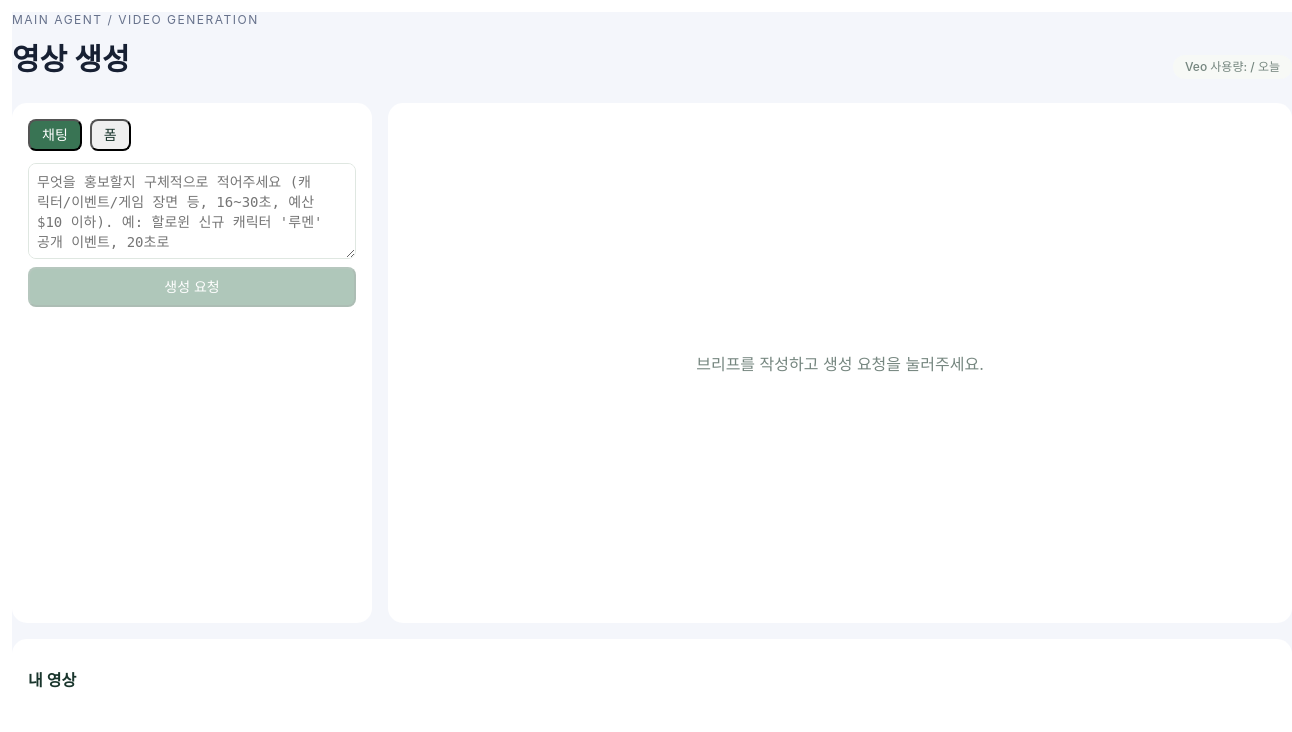
Test: VideoAgentPage › shows the Video Agent clarification inline after the request is routed to Video Generation
This screenshot has width=1292, height=732.
Type "안녕하세요 도와주세요" into the text box named "영상 브리프". click: (192, 211)
box: [28, 163, 356, 259]
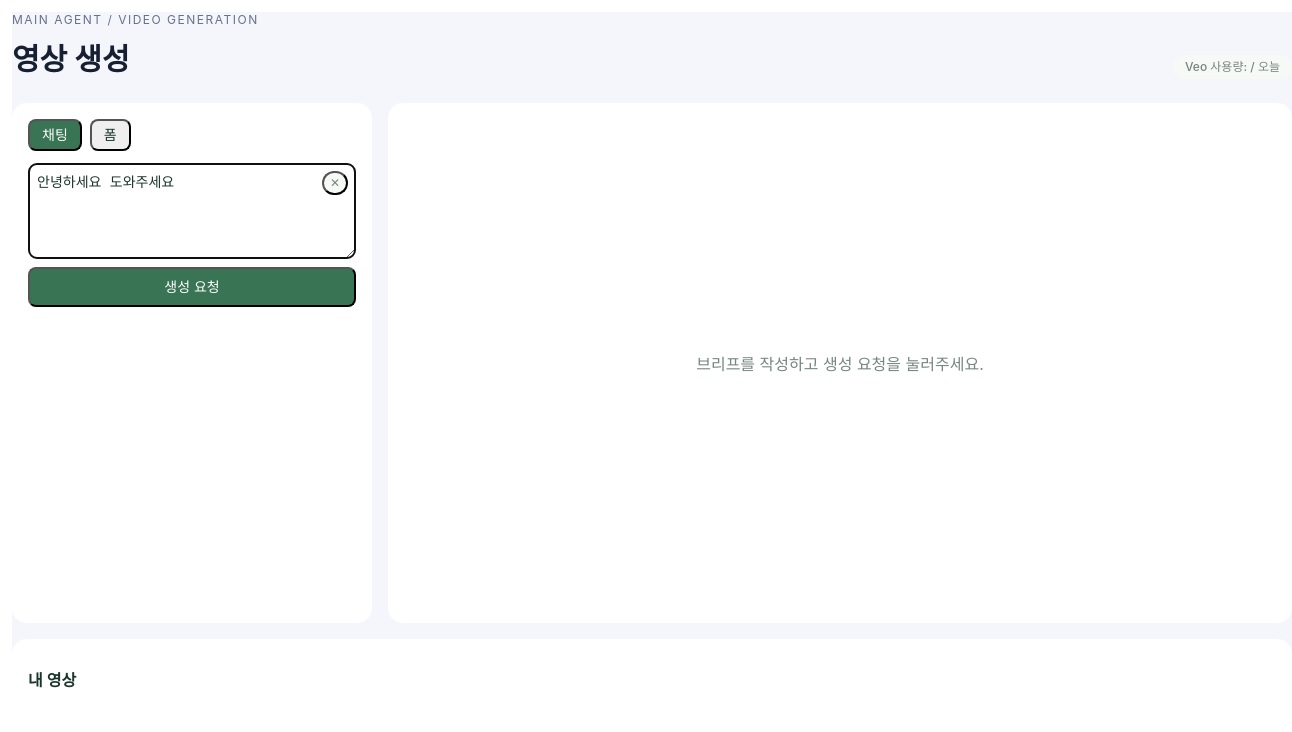
Click the button "생성 요청". click: (192, 287)
box: [28, 267, 356, 307]
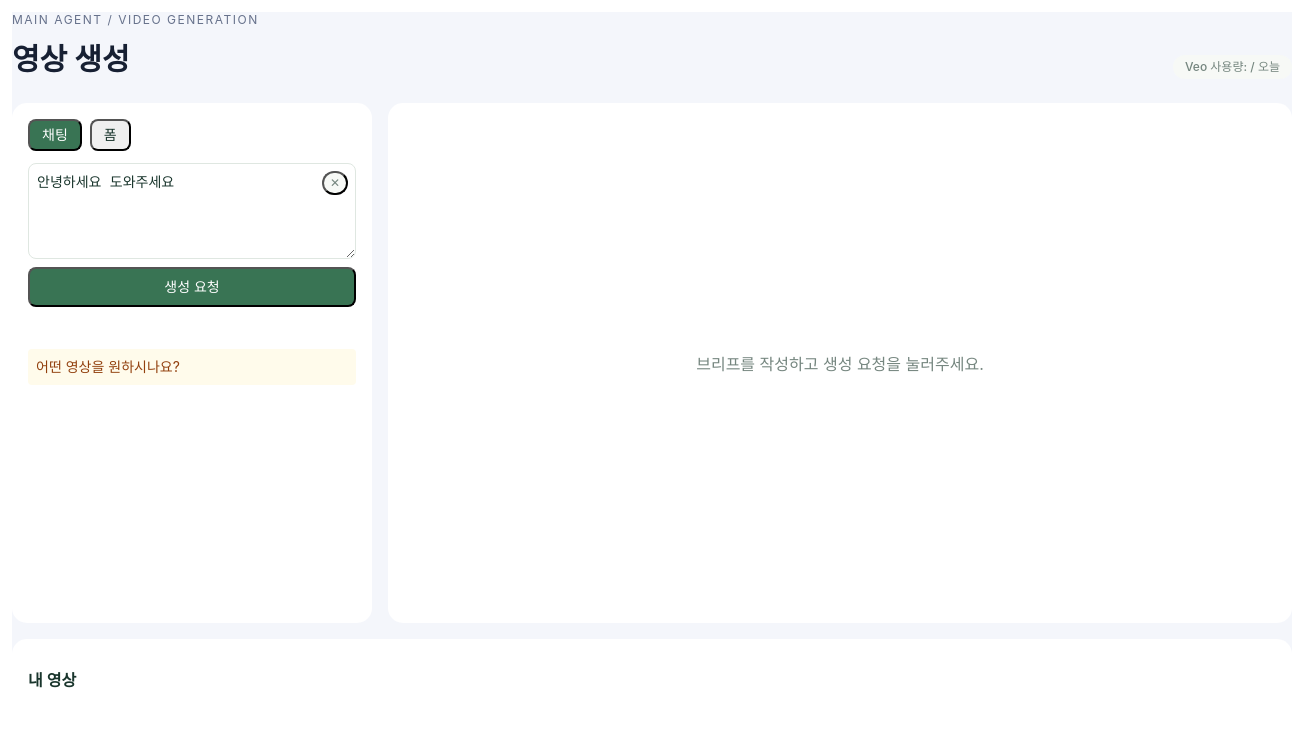
Expected: the text "브리프를 작성하고 생성 요청을 눌러주세요." is shown, [696, 354, 984, 374]
Now the text with test id "clarifying-question" reads "어떤 영상을 원하시나요?", box [36, 358, 180, 375]
